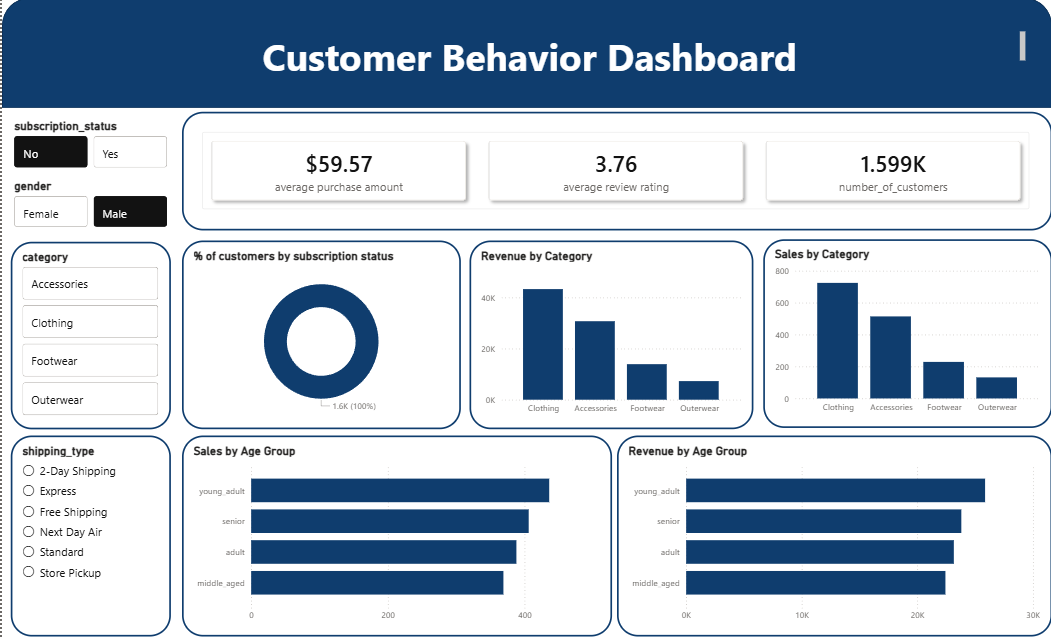

The page's visual inventory and layout, read from the dashboard file:
{"tool":"powerbi","page":{"name":"Page 1","canvas":[1500,920],"ordinal":0},"visuals":[{"type":"shape","box":[0,0,1500,157.1],"z":0,"group":"g1"},{"type":"cardVisual","fields":{"Data":["public customer.average purchase amount","public customer.average review rating","public customer.number_of_customers"]},"box":[257.1,162.5,1242.9,169.6],"z":0},{"type":"textbox","box":[50.3,43,1416.8,70.4],"z":1000,"group":"g1"},{"type":"donutChart","title":"% of customers by subscription status","fields":{"Category":["public customer.subscription_status"],"Y":["CountNonNull(public customer.customer_id)"]},"box":[257.1,346.4,398.2,269.6],"z":2000},{"type":"clusteredColumnChart","title":"Revenue by Category","fields":{"Y":["Sum(public customer.purchase_amount)"],"Category":["public customer.category"]},"box":[667.9,346.4,405.4,269.6],"z":2001},{"type":"clusteredColumnChart","title":"Sales by Category","fields":{"Category":["public customer.category"],"Y":["CountNonNull(public customer.customer_id)"]},"box":[1087.5,344.6,412.5,269.6],"z":2002},{"type":"advancedSlicerVisual","fields":{"Values":["public customer.subscription_status"]},"box":[12.5,173.2,228.6,75],"z":2004},{"type":"advancedSlicerVisual","fields":{"Values":["public customer.gender"]},"box":[12.5,258.9,228.6,73.2],"z":2005},{"type":"advancedSlicerVisual","fields":{"Values":["public customer.category"]},"box":[12.5,348.2,228.6,267.9],"z":2006},{"type":"listSlicer","fields":{"Values":["public customer.shipping_type"]},"box":[12.5,625,228.6,287.5],"z":2008},{"type":"clusteredBarChart","title":"Revenue by Age Group","fields":{"Category":["public customer.age_group"],"Y":["Sum(public customer.purchase_amount)"]},"box":[878.6,625,621.4,287.5],"z":2009},{"type":"clusteredBarChart","title":"Sales by Age Group","fields":{"Category":["public customer.age_group"],"Y":["CountNonNull(public customer.customer_id)"]},"box":[257.1,625,614.3,287.5],"z":2010},{"type":"group","id":"g1","title":"Group 1","box":[0,0,1500,157.1],"z":2011}]}

Visuals, with their boxes in screenshot pixels (x1, y1, x2, y2), scaled from the page's 1500x920 canvas onto the 1051x639 screenshot:
shape: box(0, 0, 1050, 109)
cardVisual - public customer.average purchase amount x public customer.average review rating: box(180, 113, 1050, 231)
textbox: box(35, 30, 1028, 79)
"% of customers by subscription status" donutChart: box(180, 241, 459, 428)
"Revenue by Category" clusteredColumnChart: box(468, 241, 752, 428)
"Sales by Category" clusteredColumnChart: box(762, 239, 1050, 427)
advancedSlicerVisual - public customer.subscription_status: box(9, 120, 169, 172)
advancedSlicerVisual - public customer.gender: box(9, 180, 169, 231)
advancedSlicerVisual - public customer.category: box(9, 242, 169, 428)
listSlicer - public customer.shipping_type: box(9, 434, 169, 634)
"Revenue by Age Group" clusteredBarChart: box(616, 434, 1050, 634)
"Sales by Age Group" clusteredBarChart: box(180, 434, 611, 634)
"Group 1" group: box(0, 0, 1050, 109)
